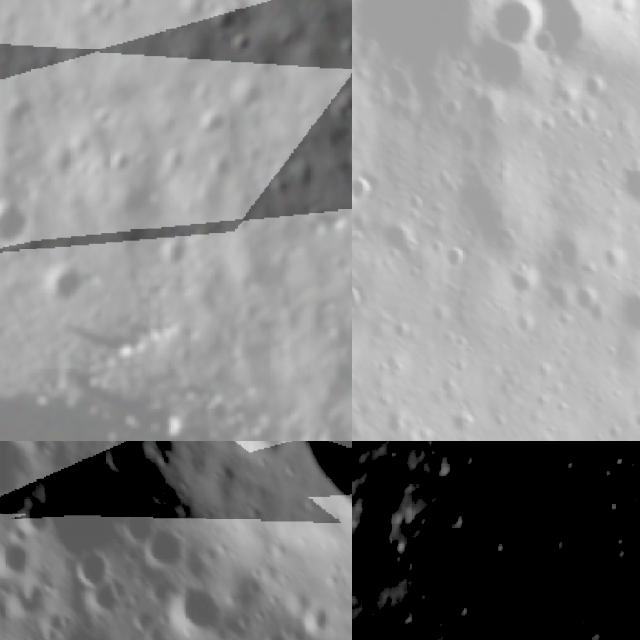crater: (131, 441, 352, 640), (485, 0, 560, 60), (167, 580, 233, 640), (142, 519, 194, 576), (113, 487, 166, 542), (0, 190, 39, 255), (43, 267, 101, 310), (51, 607, 117, 640), (76, 542, 120, 586), (0, 533, 40, 579), (158, 231, 197, 277), (568, 274, 605, 318), (504, 252, 542, 294), (618, 272, 640, 338), (230, 79, 268, 112), (436, 239, 469, 276), (197, 109, 230, 142), (611, 161, 640, 198), (224, 32, 258, 63), (352, 167, 377, 205), (105, 150, 133, 178), (352, 276, 370, 316), (220, 0, 252, 10)
